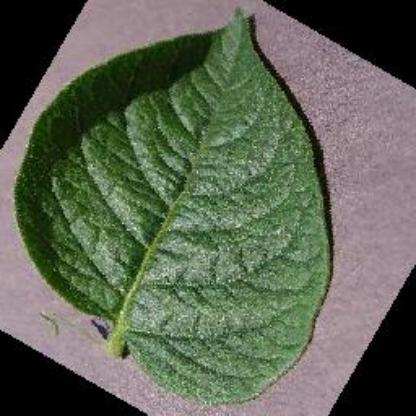Healthy-plant: (12, 12, 335, 406)
